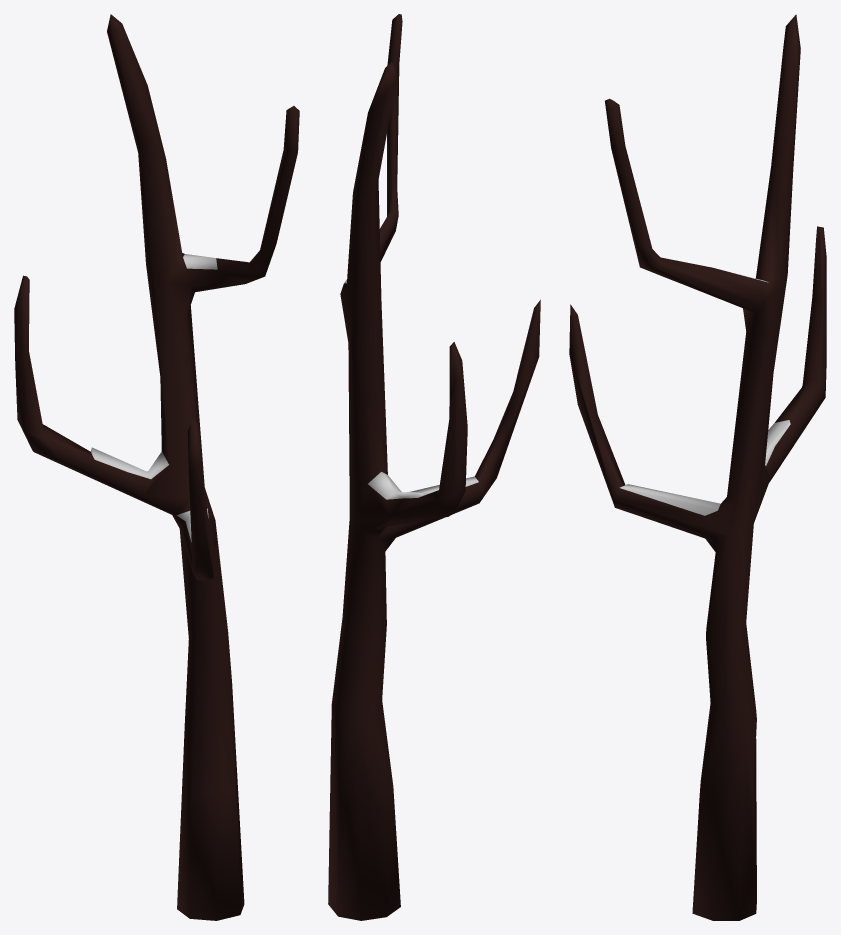
The model's file is CommonTree_Dead_Snow_3.007.fbx.
3 renders of one model, left to right at view 1: azimuth 30°, elevation 25°; view 2: azimuth 150°, elevation 25°; view 3: azimuth 270°, elevation 25°, orthographic. The views are drawn at different scales.
Parts seen in each view (by area): view 1: CommonTree_Dead_Snow_3.007; view 2: CommonTree_Dead_Snow_3.007; view 3: CommonTree_Dead_Snow_3.007.
Part boxes in pixels (<box>): CommonTree_Dead_Snow_3.007: <box>14,14,299,920</box>; CommonTree_Dead_Snow_3.007: <box>328,14,540,920</box>; CommonTree_Dead_Snow_3.007: <box>569,14,826,920</box>.
Size of the model in its own units: 264 by 333 by 1237.
